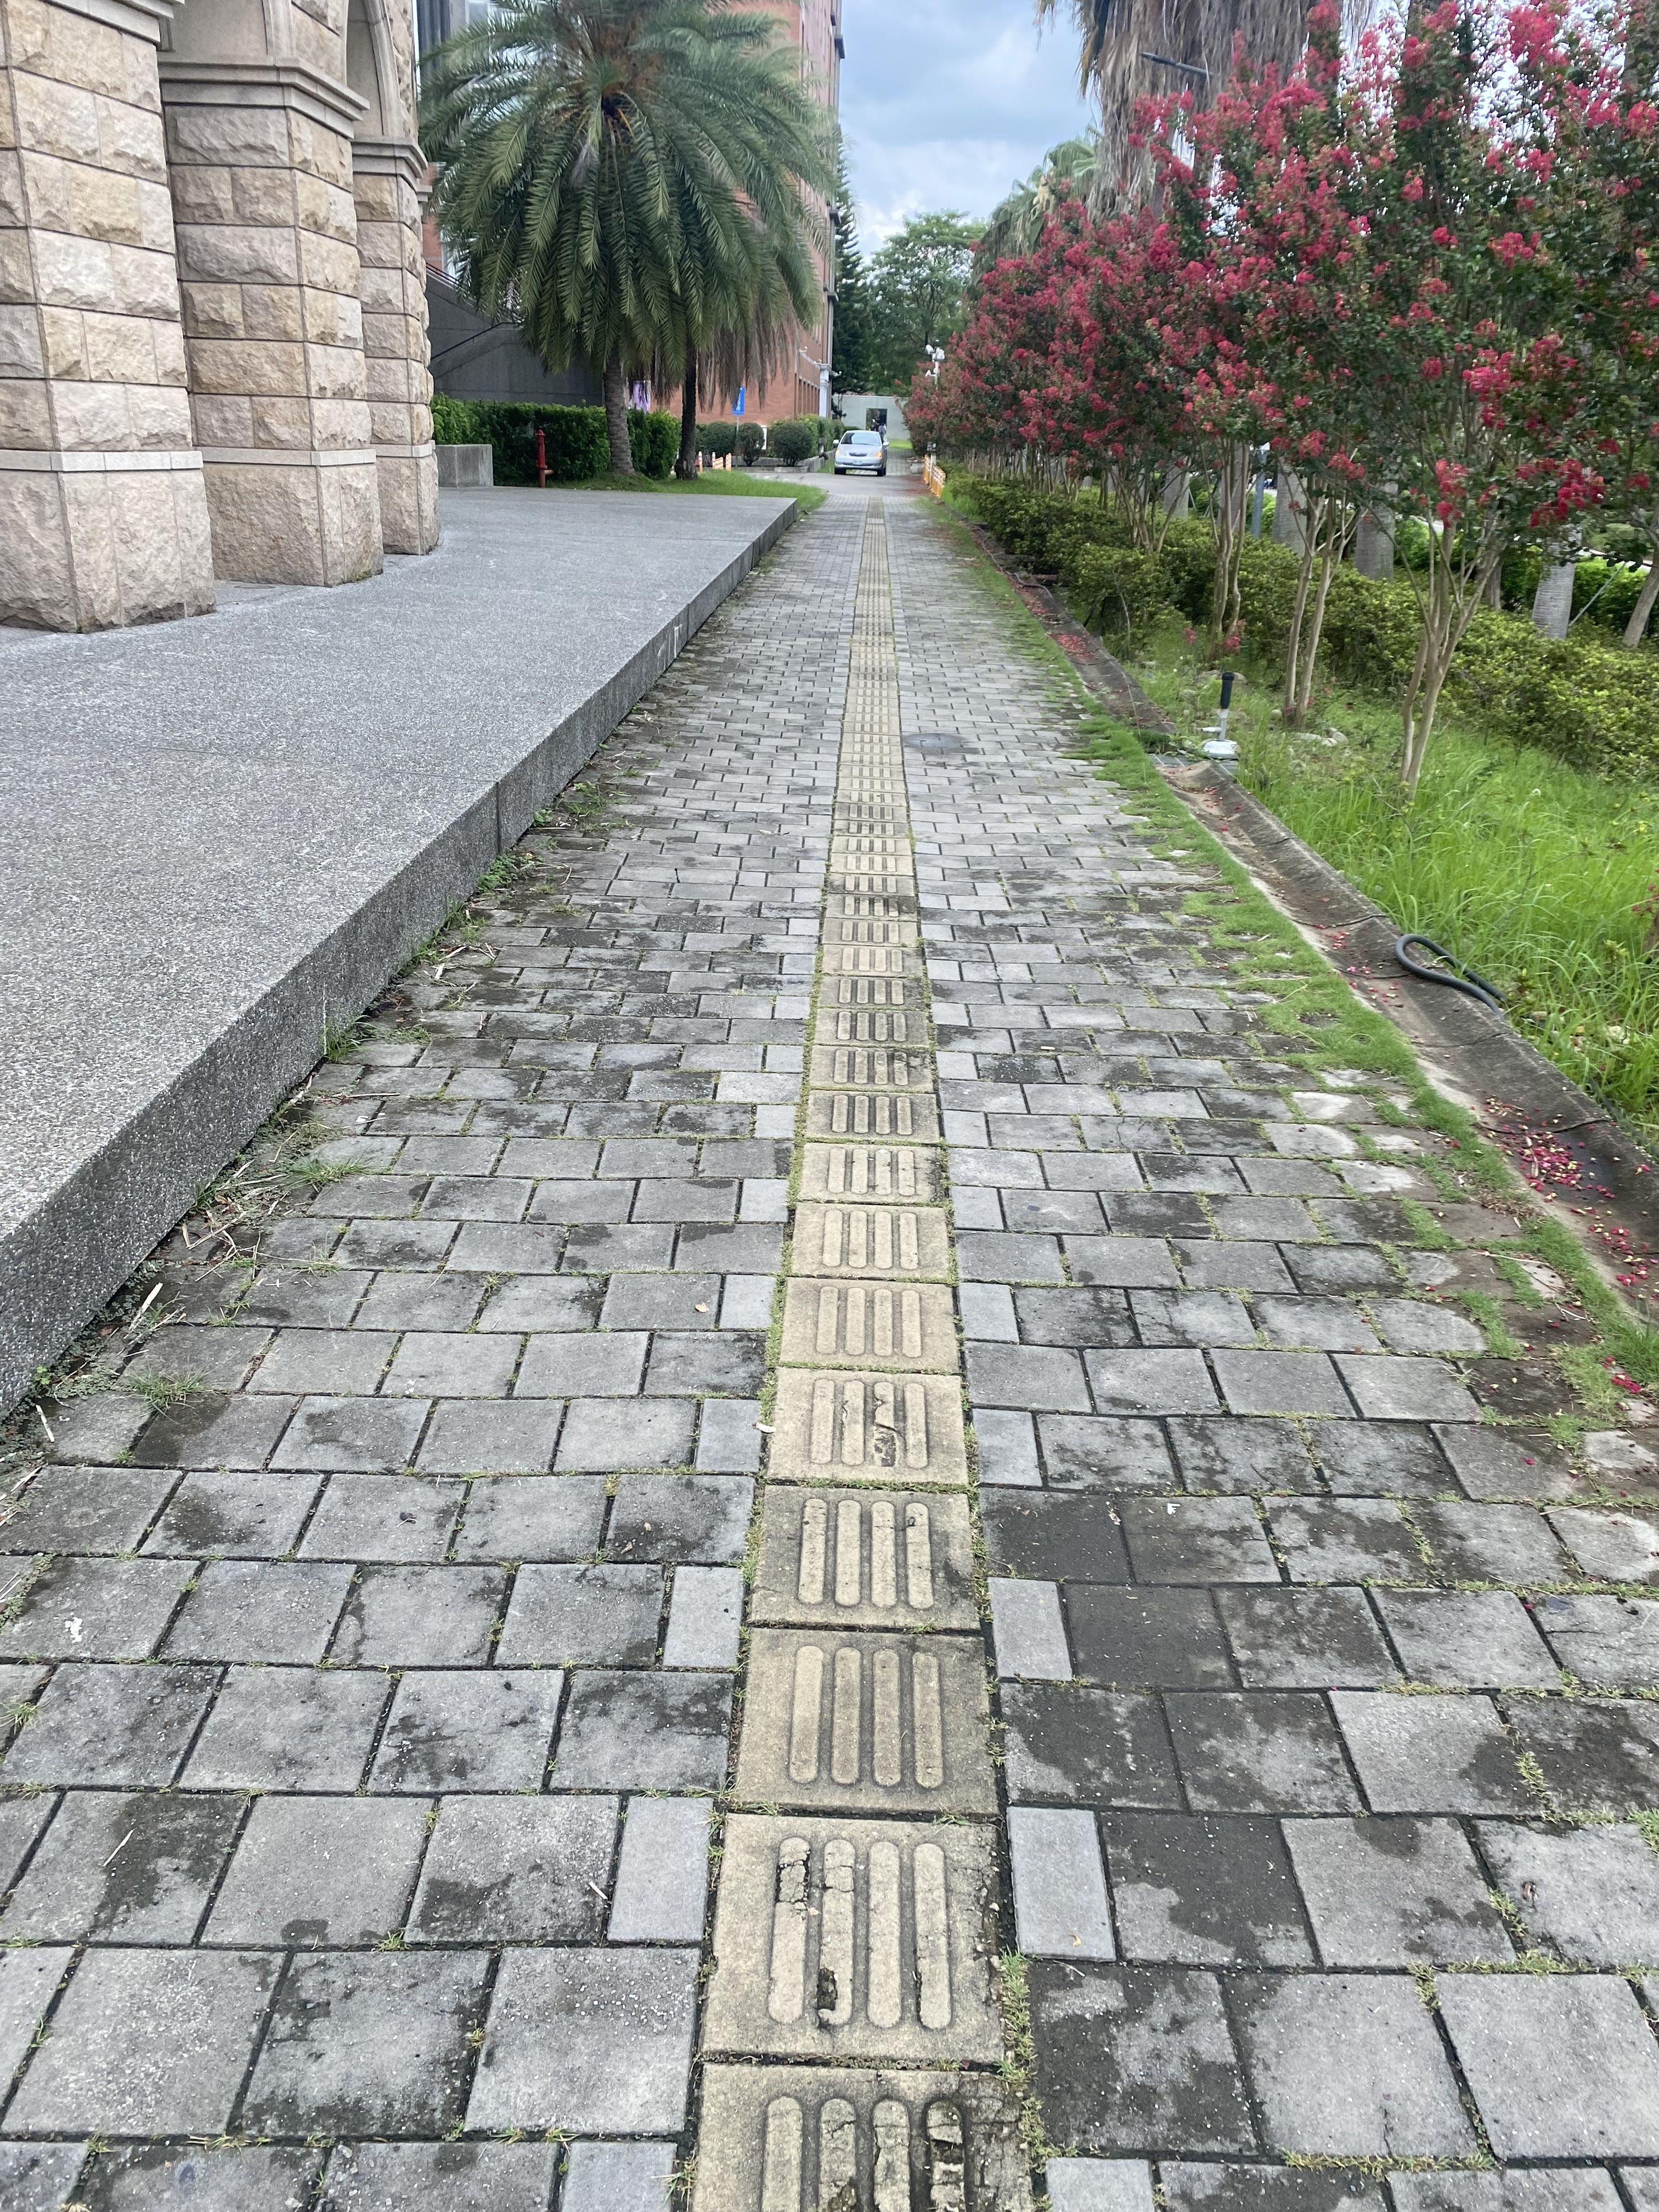0: (5, 657, 1659, 2212)
sidewalk: (634, 467, 1326, 1299)
